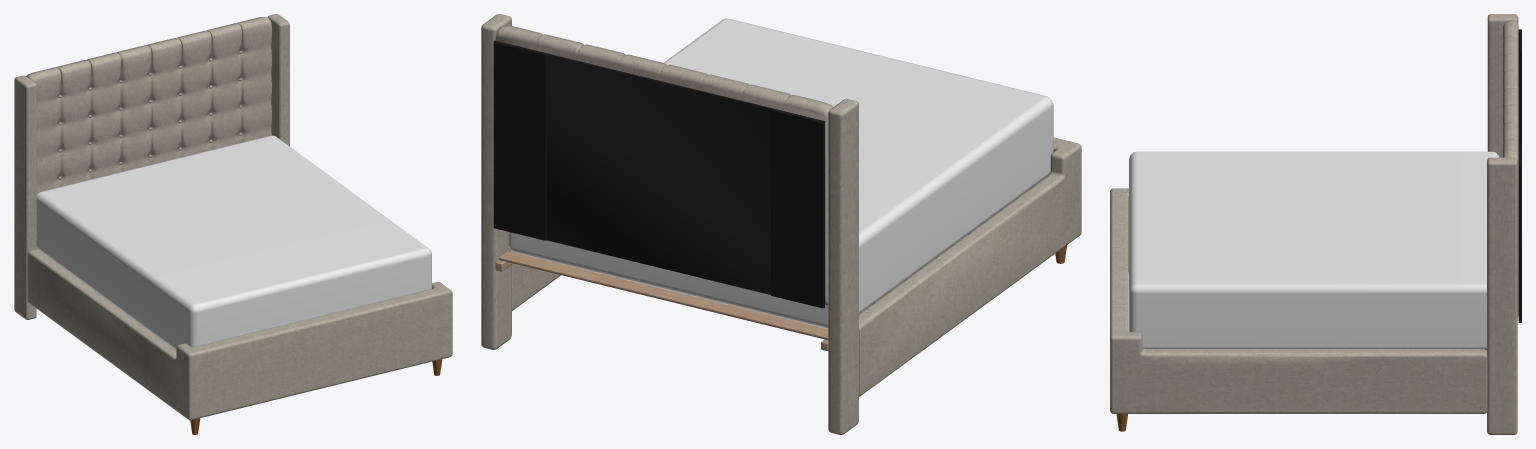
The model's file is B075QDV22Z.glb.
The picture shows the model from 3 angles, left to right: view 1: azimuth 30°, elevation 25°; view 2: azimuth 150°, elevation 25°; view 3: azimuth 270°, elevation 25°; orthographic projection. The views are drawn at different scales.
Parts seen in each view (by area): view 1: RootNode; view 2: RootNode; view 3: RootNode.
Part boxes in pixels (x1=…): RootNode: x1=14, y1=14, x2=452, y2=434; RootNode: x1=481, y1=14, x2=1081, y2=434; RootNode: x1=1110, y1=14, x2=1521, y2=434.
Size of the model in its own units: 2.05 by 1.74 by 2.37.
Materials: 1 (1 with a texture image).
